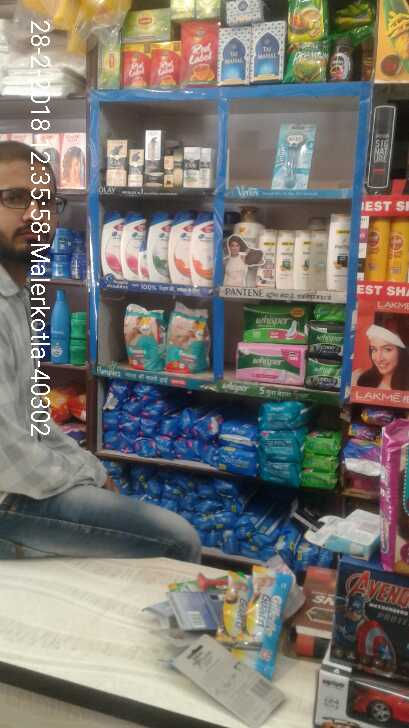venus: (274, 127, 315, 190)
